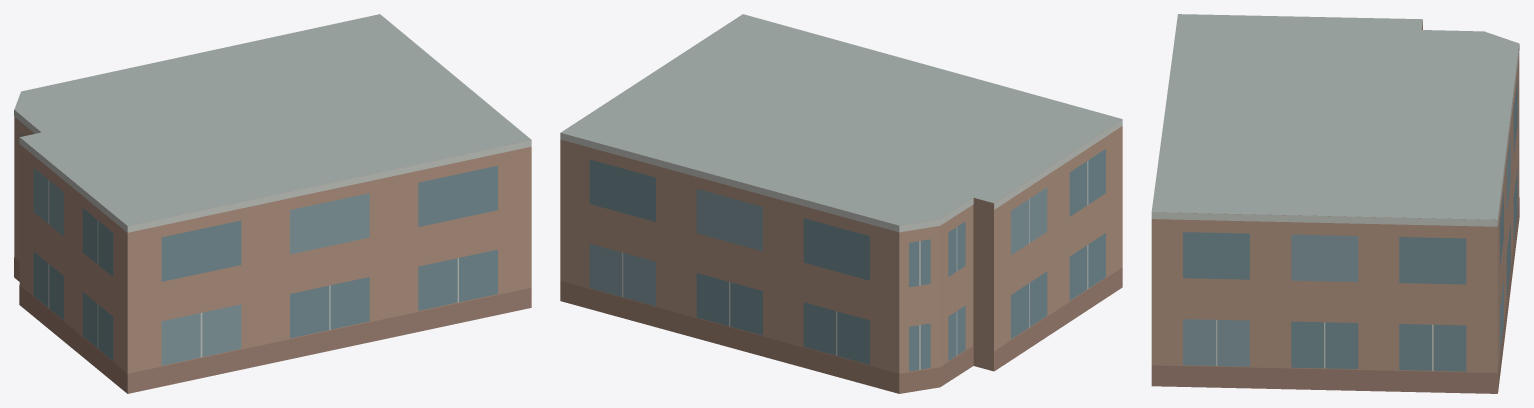
The model's file is survey-upis-32823239.glb.
3 renders of one model, left to right at view 1: azimuth 30°, elevation 25°; view 2: azimuth 150°, elevation 25°; view 3: azimuth 270°, elevation 25°, orthographic. The views are drawn at different scales.
Visible parts, largest first — view 1: survey-upis-32823239.tmp; view 2: survey-upis-32823239.tmp; view 3: survey-upis-32823239.tmp.
Part boxes in pixels (x1,y1,x2,y2): survey-upis-32823239.tmp: (14, 14, 531, 393); survey-upis-32823239.tmp: (560, 14, 1122, 393); survey-upis-32823239.tmp: (1151, 14, 1519, 393).
Size of the model in its own units: 15.48 by 6.1 by 11.69.
